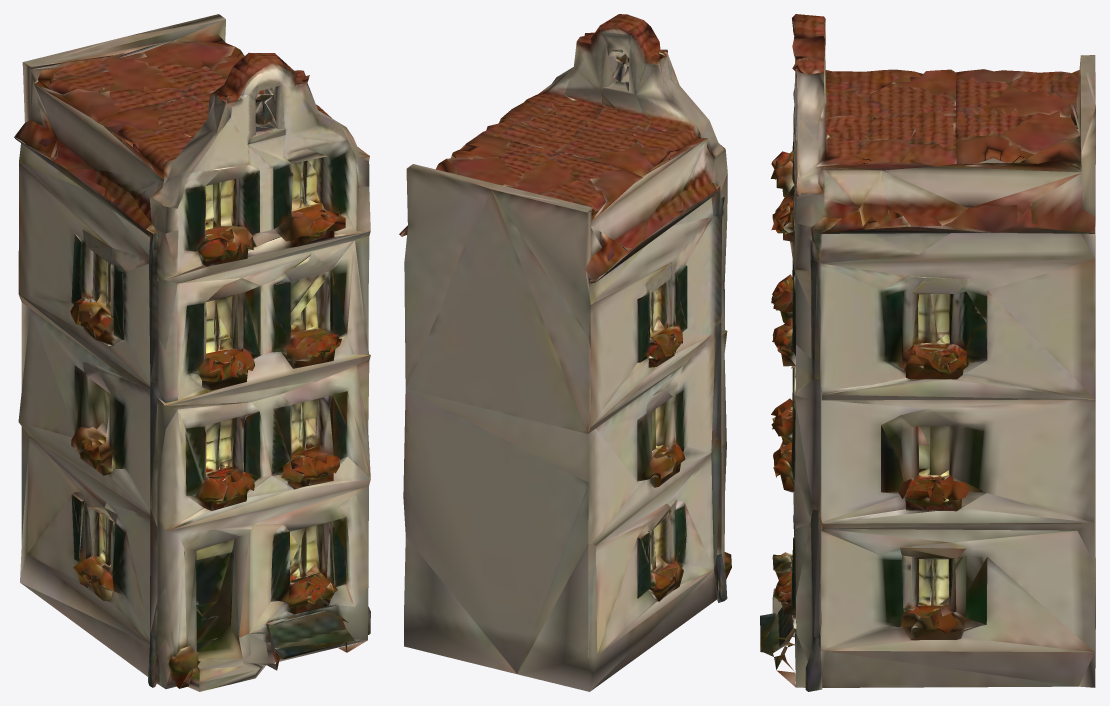
The model's file is getkong-haus2.glb.
3 views of the same model, side by side, from view 1: azimuth 30°, elevation 25°; view 2: azimuth 150°, elevation 25°; view 3: azimuth 270°, elevation 25° (orthographic). The views are drawn at different scales.
Parts seen in each view (by area): view 1: output_unwrapped; view 2: output_unwrapped; view 3: output_unwrapped.
Part boxes in pixels (left/top/right/bottom): output_unwrapped: left=14, top=14, right=370, bottom=691; output_unwrapped: left=399, top=14, right=731, bottom=691; output_unwrapped: left=760, top=14, right=1095, bottom=691.
Bounding box in the file's own units: 0.7787 × 1.9 × 0.935.
1 material, 1 textured.
